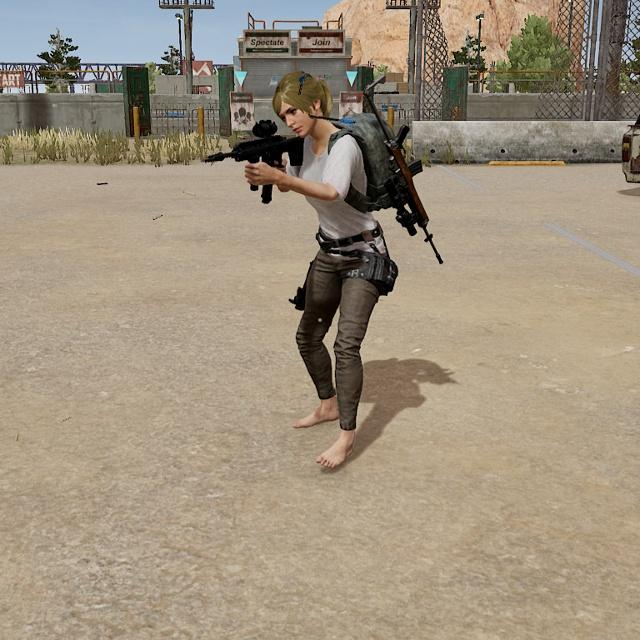head: (270, 68, 329, 142)
people: (252, 60, 403, 487)
